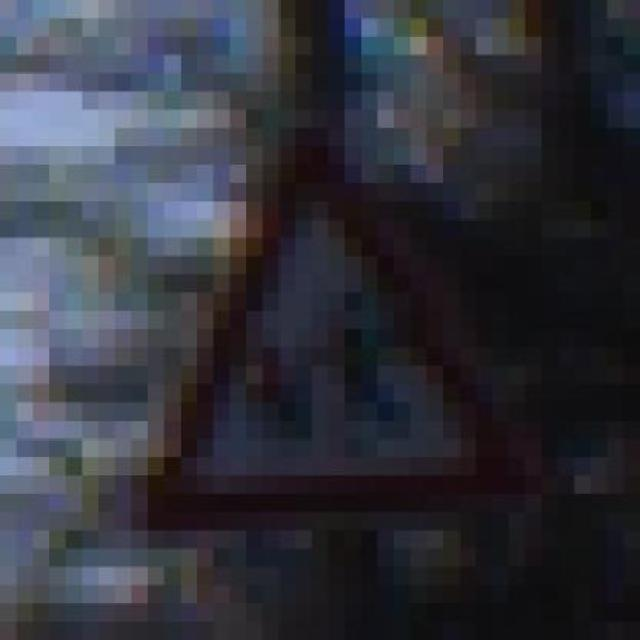Beware of children: (115, 128, 542, 530)
